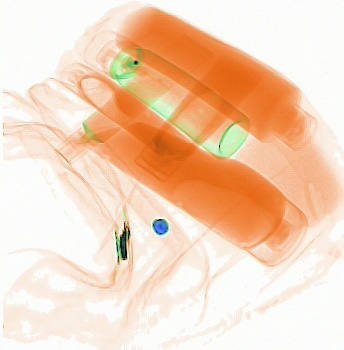pressure: (96, 34, 251, 160)
